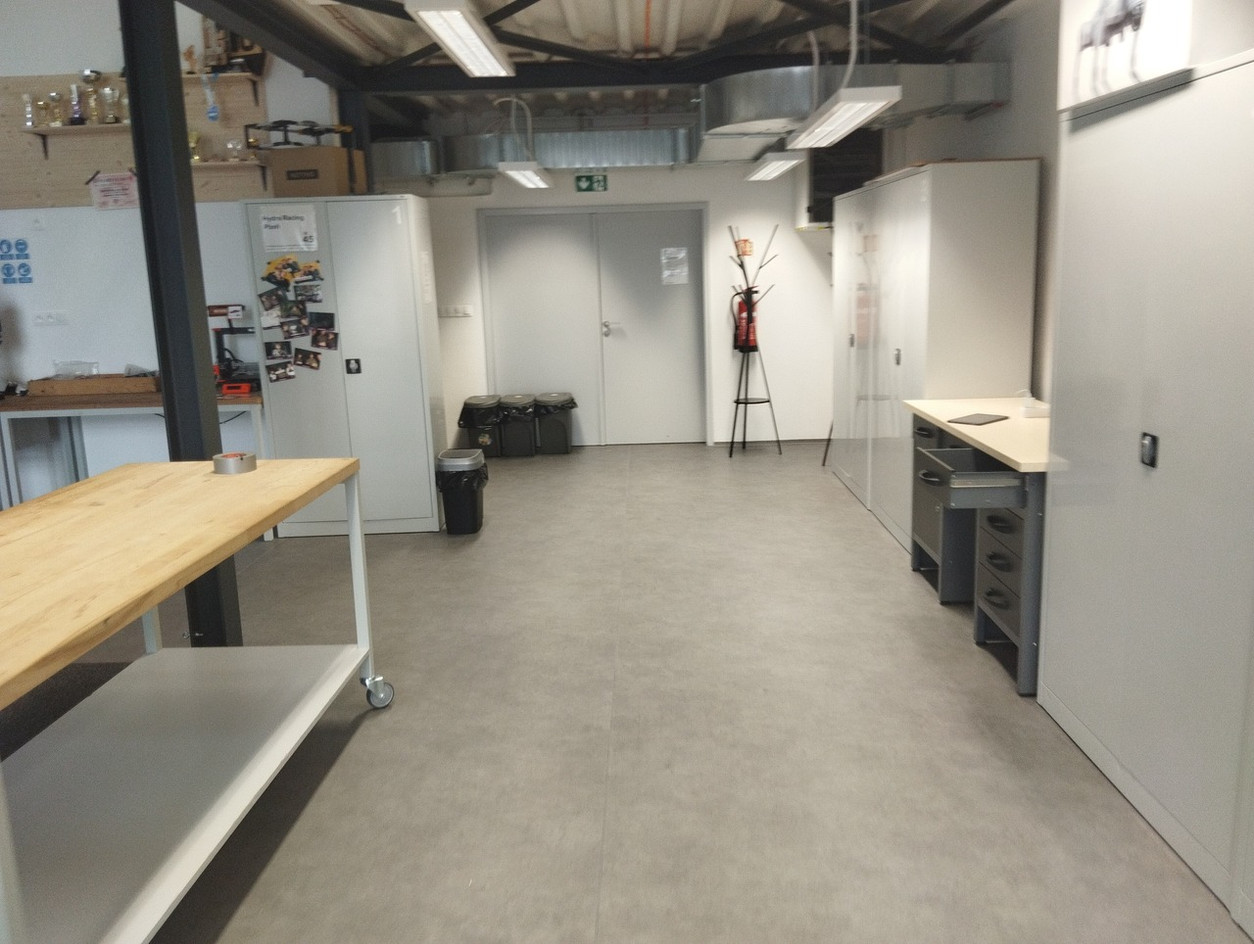Door-handle: (360, 666, 394, 708), (917, 469, 949, 484)
